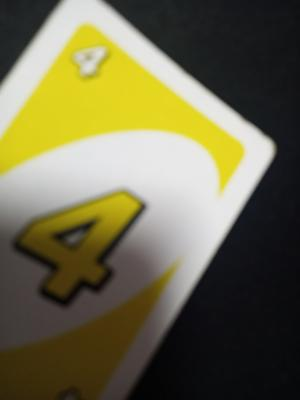num_4: (11, 183, 148, 318)
yellow: (45, 32, 122, 150)
